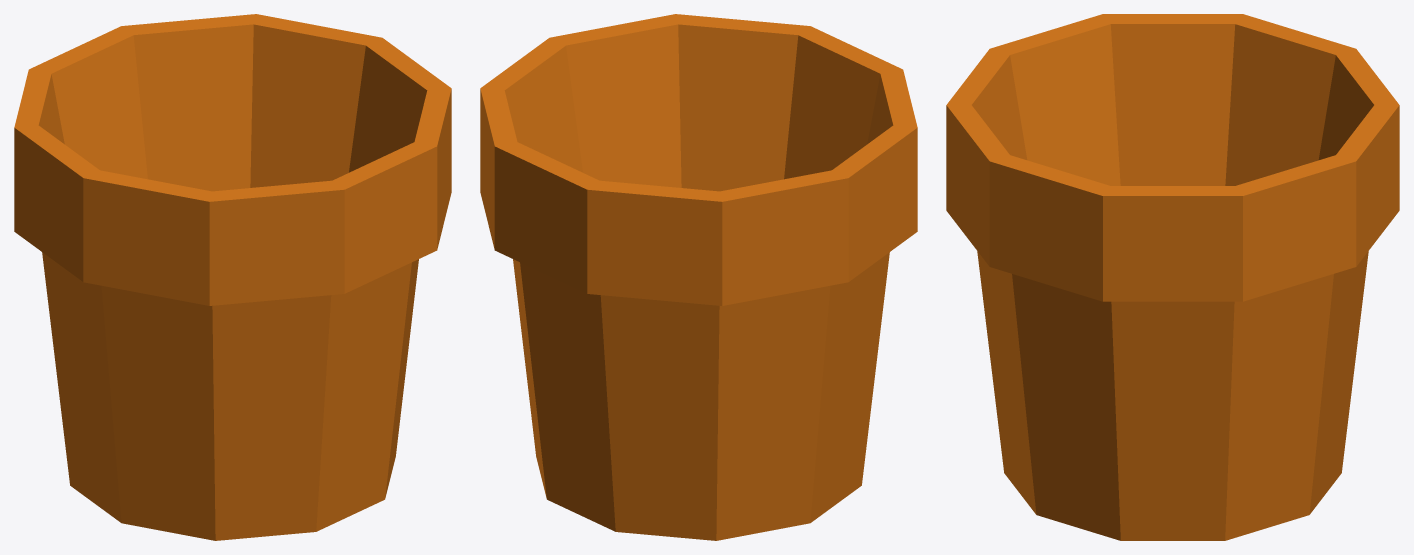
File: flowerpot.glb
3 renders of one model, left to right at view 1: azimuth 30°, elevation 25°; view 2: azimuth 150°, elevation 25°; view 3: azimuth 270°, elevation 25°, orthographic.
Parts seen in each view (by area): view 1: flowerpot; view 2: flowerpot; view 3: flowerpot.
Part boxes in pixels (x1,y1,x2,y2): flowerpot: [14, 14, 451, 540]; flowerpot: [480, 14, 917, 540]; flowerpot: [946, 14, 1399, 540].
Bounding box in the file's own units: 2.14 × 2.02 × 2.25.
1 material, 1 textured.
